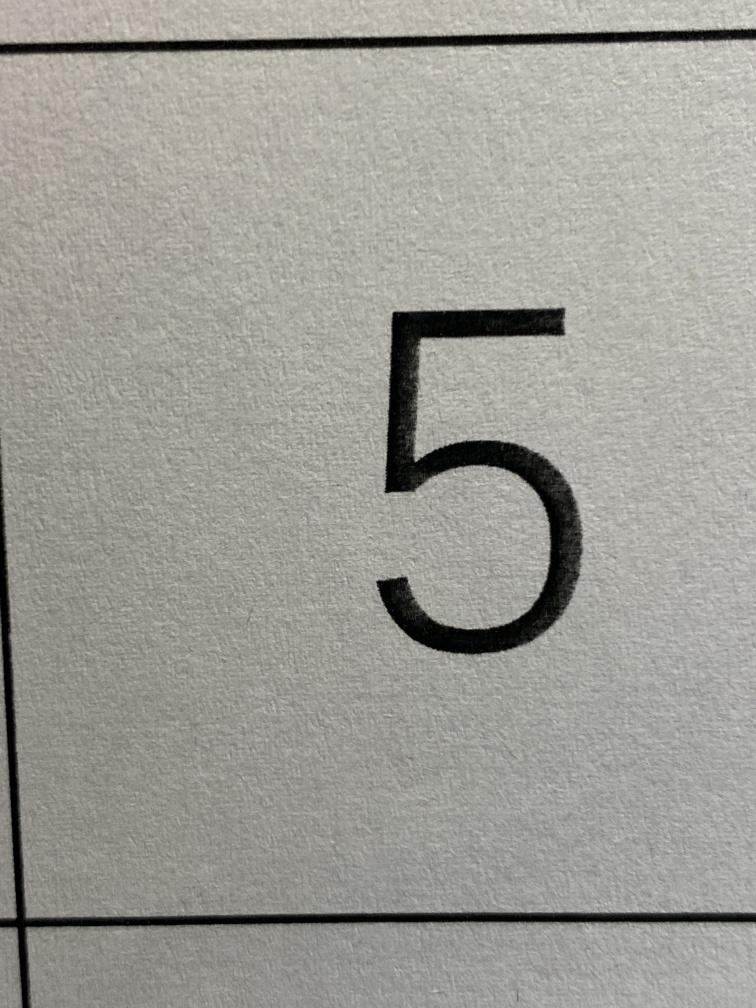five: (309, 239, 635, 717)
